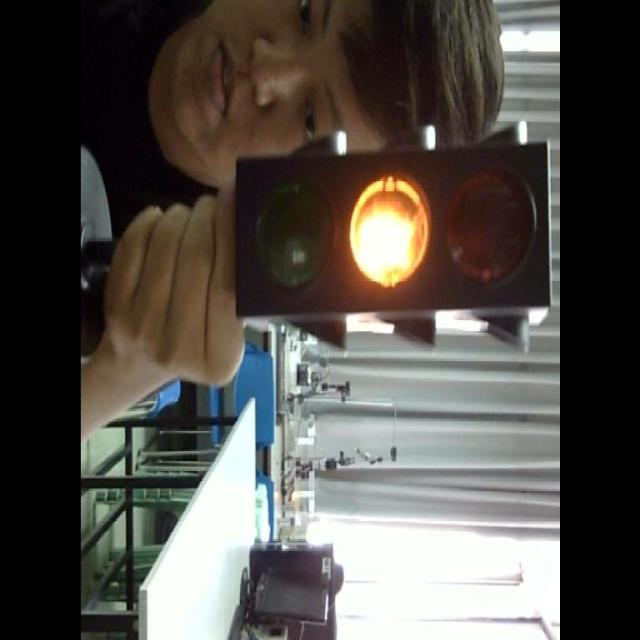yellow light: (342, 170, 436, 300)
